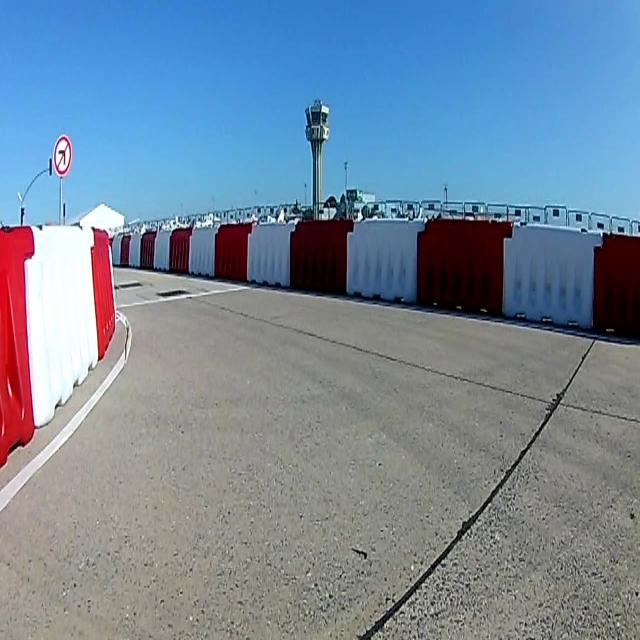soladonulmez: (54, 135, 72, 176)
